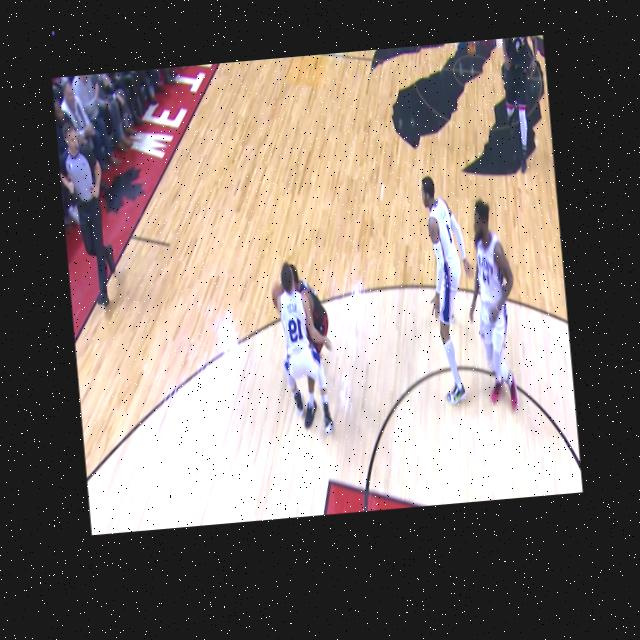Foul: (262, 242, 348, 424)
